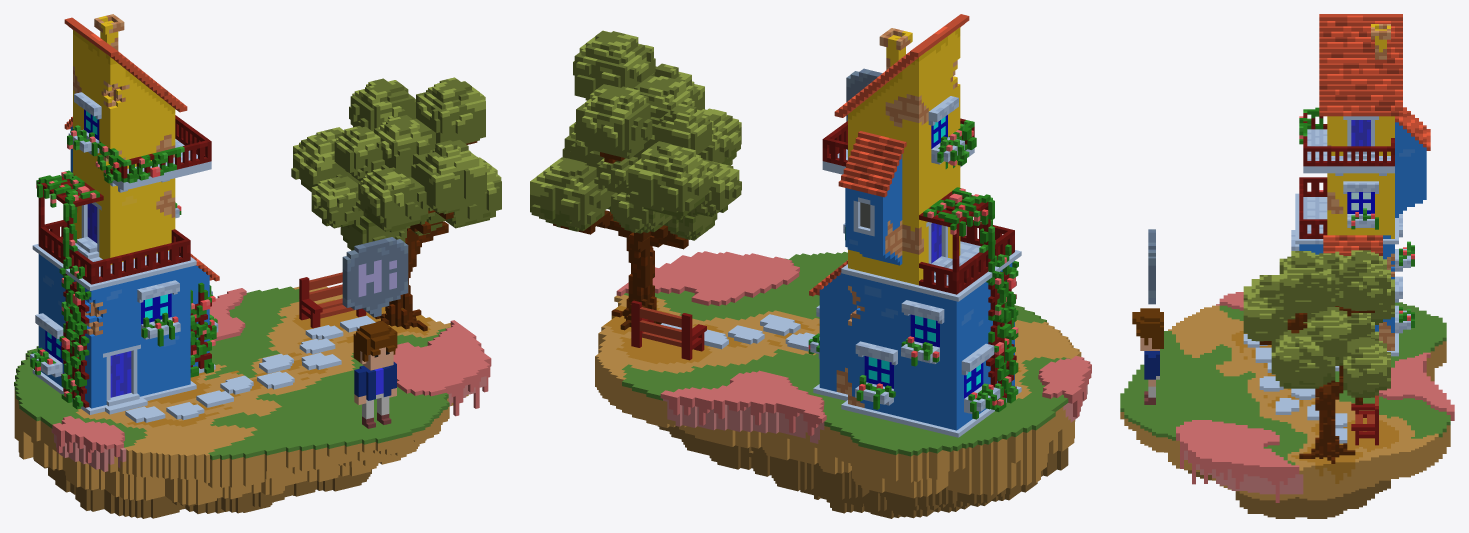
3 views of the same model, side by side, from view 1: azimuth 30°, elevation 25°; view 2: azimuth 150°, elevation 25°; view 3: azimuth 270°, elevation 25° (orthographic). The views are drawn at different scales.
Parts seen in each view (by area): view 1: Untitled; view 2: Untitled; view 3: Untitled.
Boxes of the visible parts, left/top/right/bottom form: Untitled: left=14, top=14, right=501, bottom=518; Untitled: left=530, top=14, right=1091, bottom=518; Untitled: left=1120, top=14, right=1454, bottom=518.
Size of the model in its own units: 11.7 by 11.5 by 8.4.
Materials: 1 (1 with a texture image).
